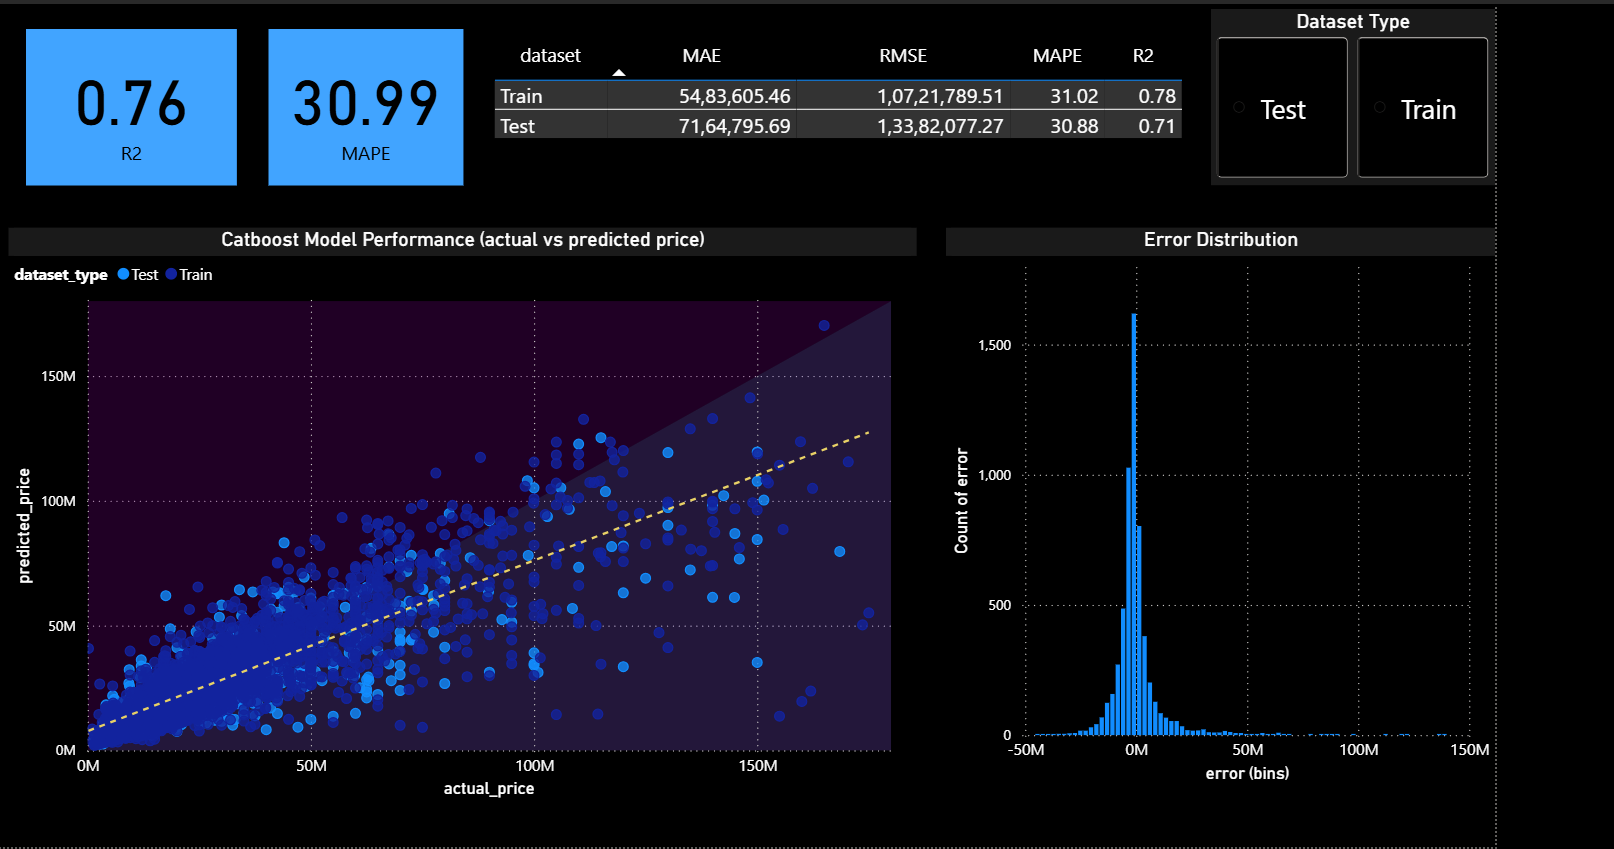

What the dashboard file says about the page in this screenshot:
{"tool":"powerbi","page":{"name":"Catboost Model Evaluation","canvas":[1280,720],"ordinal":3},"visuals":[{"type":"scatterChart","title":"Catboost Model Performance (actual vs predicted price)","fields":{"X":["catboost_results.actual_price"],"Y":["catboost_results.predicted_price"],"Series":["catboost_results.dataset_type"]},"box":[10.5,190.7,775.6,491.9],"z":0},{"type":"advancedSlicerVisual","title":"Dataset Type","fields":{"Values":["catboost_results.dataset_type"]},"box":[1037.2,4.7,243,150],"z":1000},{"type":"card","fields":{"Values":["Avg(catboost_results.pct_error)"]},"box":[232.6,20.9,166.3,133.7],"z":2000},{"type":"card","fields":{"Values":["Measures (2).R2"]},"box":[25.6,20.9,180.2,133.7],"z":3000},{"type":"clusteredColumnChart","title":"Error Distribution","fields":{"Category":["catboost_results.error (bins)"],"Y":["CountNonNull(catboost_results.error)"]},"box":[810.5,190.7,469.8,479.1],"z":4000},{"type":"tableEx","fields":{"Values":["catboost_metrics.dataset","catboost_metrics.MAE","catboost_metrics.RMSE","catboost_metrics.MAPE","catboost_metrics.R2"]},"box":[419.8,25.6,600,117.4],"z":5000}]}

Visuals, with their boxes on the page's 1280x720 design canvas (x1, y1, x2, y2). These are canvas units, not pixel positions in the 1614x849 screenshot, which may show the page scaled, cropped or inside an application window:
"Catboost Model Performance (actual vs predicted price)" scatterChart: 10,191,786,683
"Dataset Type" advancedSlicerVisual: 1037,5,1280,155
card - Avg(catboost_results.pct_error): 233,21,399,155
card - Measures (2).R2: 26,21,206,155
"Error Distribution" clusteredColumnChart: 810,191,1280,670
tableEx - catboost_metrics.dataset x catboost_metrics.MAE: 420,26,1020,143
